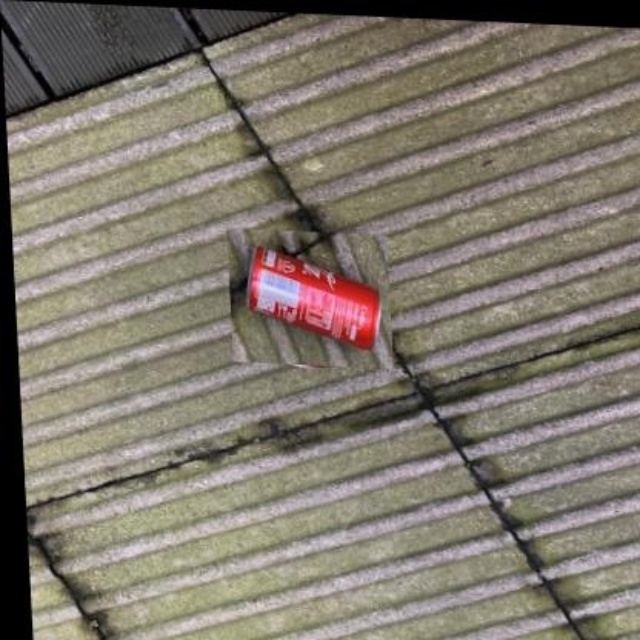trash: (248, 246, 378, 348)
